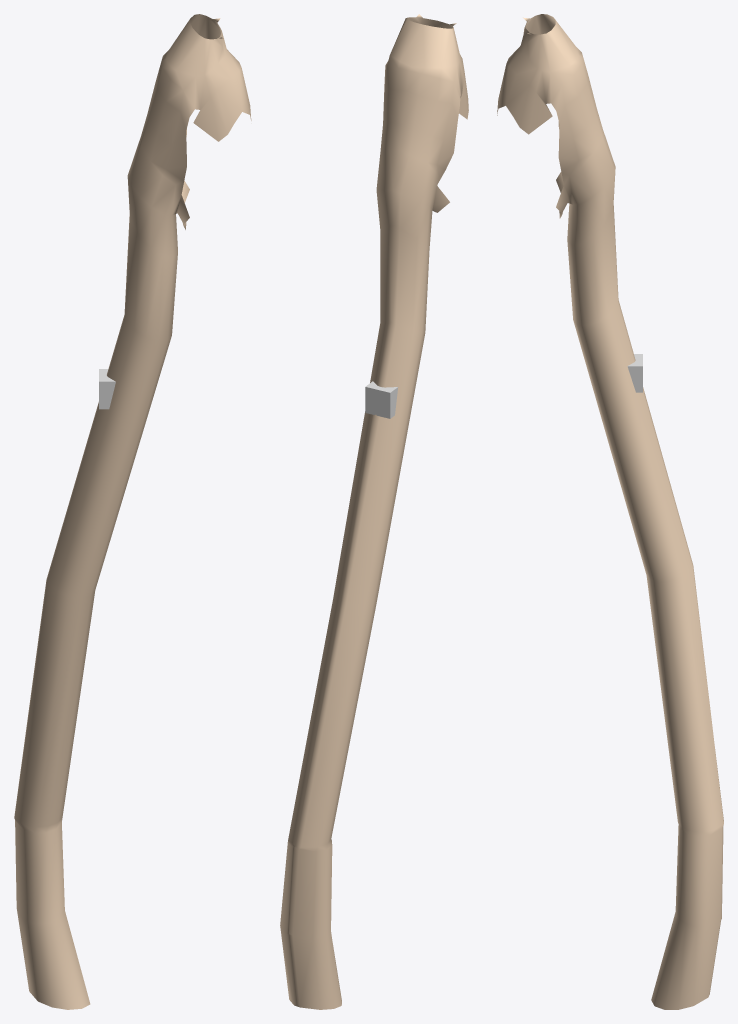
File: esofago.gltf
The picture shows the model from 3 angles, left to right: view 1: azimuth 90°, elevation 25°; view 2: azimuth 150°, elevation 25°; view 3: azimuth 270°, elevation 25°; orthographic projection. The views are drawn at different scales.
Parts seen in each view (by area): view 1: Mesh_103.002; view 2: Mesh_103.002, Cube; view 3: Mesh_103.002.
Part boxes in pixels (bbox=[...]): Mesh_103.002: bbox=[14, 14, 251, 1009]; Mesh_103.002: bbox=[280, 14, 468, 1009]; Cube: bbox=[365, 381, 398, 418]; Mesh_103.002: bbox=[497, 14, 723, 1009].
Size of the model in its own units: 8.56 by 72.67 by 15.57.
